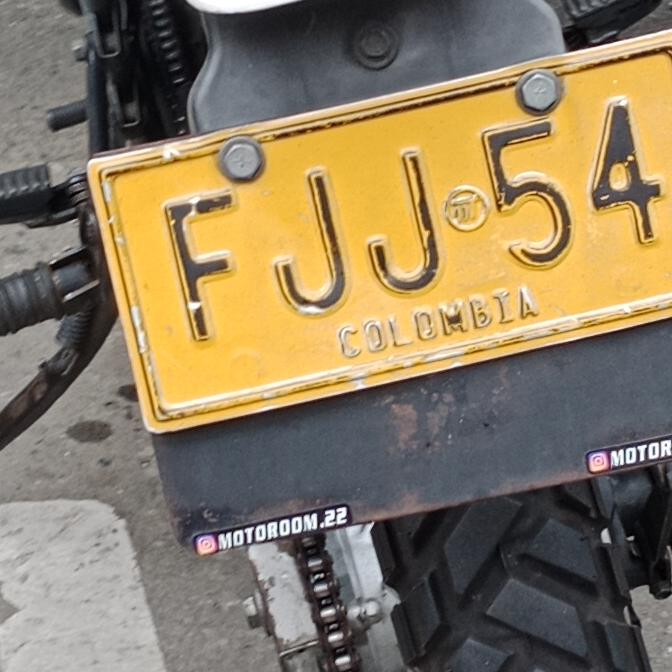plates: (82, 29, 672, 448)
